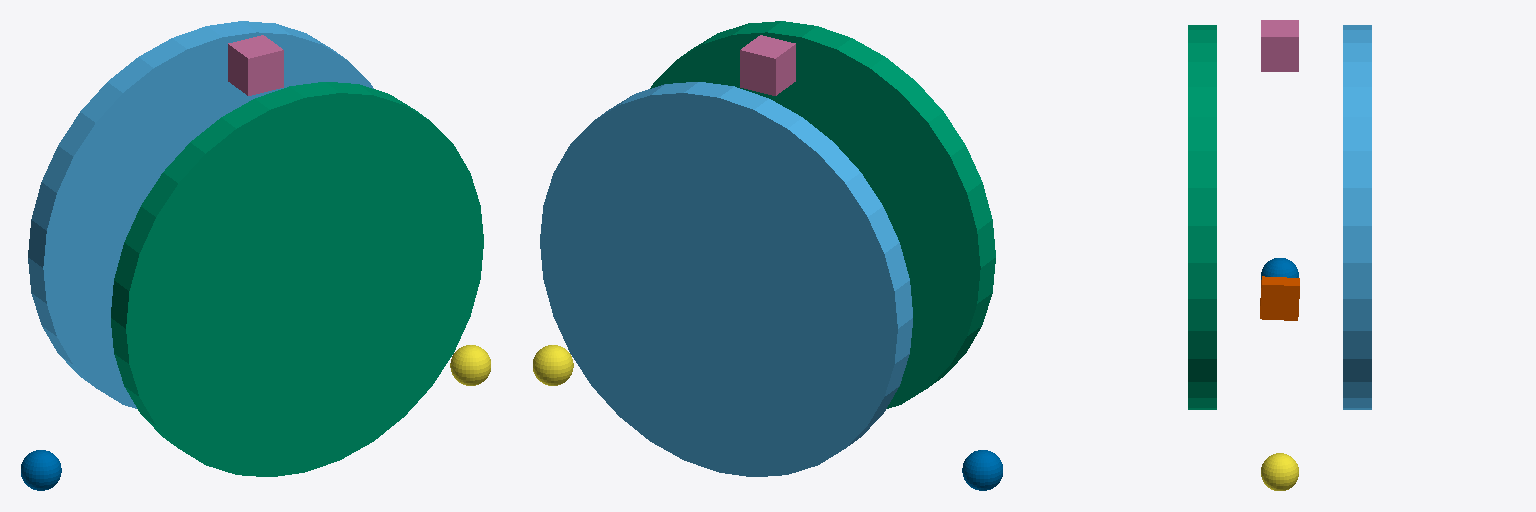
URDF robot description (sprintbot_basic_collisions):
<?xml version="1.0" ?>
<robot name="sprintbot_basic_collisions">
    
  <link name="link_0">
    <inertial>
      <mass value="1.5"/>
      <inertia ixx="0.166667" ixy="0" ixz="0" iyy="0.166667" iyz="0" izz="0.166667"/>
      <origin rpy="0 0 0" xyz="0 0 0"/>
    </inertial>
    <origin rpy="0 0 0 0" xyz="0 0 0"/>
    <kinematic>0</kinematic>
    <enable_wind>0</enable_wind>
    <visual>
      <origin rpy="0 0 -1.5708" xyz="0 0 0"/>
      <geometry>
        <mesh filename="./install/sprintbot-model/share/sprintbot-model/meshes/sprintbot_body_corrected_axis.dae"/>
      </geometry>
    </visual>
    <collision>
      <origin rpy="0 0 -1.5708" xyz="0 0 0"/>
      <geometry>
        <sphere radius="0.0915"/>
      </geometry>
    </collision>
  </link>
  
  <link name="link_1">
    <inertial>
      <mass value="0.35"/>
      <inertia ixx="0.166667" ixy="0" ixz="0" iyy="0.166667" iyz="0" izz="0.166667"/>
      <origin rpy="0 0 0" xyz="0 0 0"/>
    </inertial>
    <origin rpy="0 0 0" xyz="0 0.04 0"/>
    <kinematic>0</kinematic>
    <enable_wind>0</enable_wind>
    <visual>
      <origin rpy="1.5708 0 0" xyz="0 0 0"/>
      <geometry>
        <cylinder length="0.015" radius="0.1"/>
      </geometry>
      <transparency>0</transparency>
      <cast_shadows>1</cast_shadows>
    </visual>
    <collision>
      <origin rpy="1.5708 0 0" xyz="0 0 0"/>
      <geometry>
        <cylinder length="0.015" radius="0.1"/>
      </geometry>
    </collision>    
  </link>
  
  <link name="link_2">
    <inertial>
      <mass value="0.35"/>
      <inertia ixx="0.166667" ixy="0" ixz="0" iyy="0.166667" iyz="0" izz="0.166667"/>
      <origin rpy="0 0 0" xyz="0 0 0"/>
    </inertial>
    <origin rpy="0 0 0" xyz="0 -0.04 0"/>
    <kinematic>0</kinematic>
    <enable_wind>0</enable_wind>
    <visual>
      <origin rpy="1.5708 0 0" xyz="0 0 0"/>
      <geometry>
        <cylinder length="0.015" radius="0.1"/>
      </geometry>
      <transparency>0</transparency>
      <cast_shadows>1</cast_shadows>
    </visual>
    <collision>
      <origin rpy="1.5708 0 0" xyz="0 0 0"/>
      <geometry>
        <cylinder length="0.015" radius="0.1"/>
      </geometry>
    </collision> 
  </link>
  
  <link name="front_caster">
    <inertial>
      <mass value="0.005"/>
      <inertia ixx="1.15e-06" ixy="0" ixz="0" iyy="1.15e-06" iyz="0" izz="1.15e-06"/>
      <origin rpy="0 0 0" xyz="0 0 0"/>
    </inertial>
    <origin rpy="0 0 0" xyz="0.12 0 -0.09"/>
    <kinematic>0</kinematic>
    <enable_wind>0</enable_wind>
    <visual>
      <origin rpy="0 0 0" xyz="0 0 0"/>
      <geometry>
        <sphere radius="0.01"/>
      </geometry>
      <transparency>0</transparency>
      <cast_shadows>1</cast_shadows>
    </visual>
    <collision>
      <origin rpy="0 0 0" xyz="0 0 0"/>
      <geometry>
        <sphere radius="0.01"/>
      </geometry>
    </collision> 
  </link>
  
  <link name="back_caster">
    <inertial>
      <mass value="0.005"/>
      <inertia ixx="1.15e-06" ixy="0" ixz="0" iyy="1.15e-06" iyz="0" izz="1.15e-06"/>
      <origin rpy="0 0 0" xyz="0 0 0"/>
    </inertial>
    <origin rpy="0 0 0" xyz="-0.12 0 -0.09"/>
    <kinematic>0</kinematic>
    <enable_wind>0</enable_wind>
    <visual>
      <origin rpy="0 0 0" xyz="0 0 0"/>
      <geometry>
        <sphere radius="0.01"/>
      </geometry>
      <transparency>0</transparency>
      <cast_shadows>1</cast_shadows>
    </visual>
    <collision>
      <origin rpy="0 0 0" xyz="0 0 0"/>
      <geometry>
        <sphere radius="0.01"/>
      </geometry>
    </collision> 
  </link>
  
  <joint name="left_motor" type="revolute">
    <parent link="link_0"/>
    <child link="link_1"/>
    <origin rpy="0 0 0" xyz="0 0.04 0"/>
    <axis xyz="0 1 0"/>
    <limit effort="2.62" lower="-1.79769e+308" upper="1.79769e+308" velocity="0.5"/>
    <dynamics damping="0" friction="0" spring_reference="0" spring_stiffness="0"/>
  </joint>
  
  <joint name="right_motor" type="revolute">
    <parent link="link_0"/>
    <child link="link_2"/>
    <origin rpy="0 0 0" xyz="0 -0.04 0"/>
    <axis xyz="0 1 0"/>
    <limit effort="2.62" lower="-1.79769e+308" upper="1.79769e+308" velocity="0.5"/>
    <dynamics damping="0" friction="0" spring_reference="0" spring_stiffness="0"/>
  </joint>
  
  <joint name="back_caster_joint" type="revolute">
    <parent link="link_0"/>
    <child link="back_caster"/>
    <origin rpy="0 0 0" xyz="-0.12 0 -0.09"/>
    <axis xyz="0 1 0"/>
    <limit effort="2.62" lower="-1.79769e+308" upper="1.79769e+308" velocity="0.5"/>
    <dynamics damping="0" friction="0" spring_reference="0" spring_stiffness="0"/>
  </joint>
  
  <joint name="front_caster_joint" type="revolute">
    <parent link="link_0"/>
    <child link="front_caster"/>
    <origin rpy="0 0 0" xyz="0.12 0 -0.09"/>
    <axis xyz="0 1 0"/>
    <limit effort="2.62" lower="-1.79769e+308" upper="1.79769e+308" velocity="0.5"/>
    <dynamics damping="0" friction="0" spring_reference="0" spring_stiffness="0"/>
  </joint>
  
  <gazebo reference="link_0">
      <sensor name="range_0" type="ray">
        <pose>0.065 0.065 0 0 0 0.79</pose>
        <ray>
          <range>
            <min>0.04</min>
            <max>3.0</max>
          </range>
        </ray>
        <always_on>true</always_on>
        <visualize>true</visualize>
        <update_rate>100.0</update_rate>
        <plugin name="range_0_sensor" filename="libgazebo_ros_ray_sensor.so">
          <ros>
            <remapping>~/out:=range_0</remapping>
          </ros>
          <radiation_type>infrared</radiation_type>
          <output_type>sensor_msgs/Range</output_type>
        </plugin>
      </sensor>

      <sensor name="range_1" type="ray">
        <pose>0.092 0 0 0 0 0</pose>
        <ray>
          <range>
            <min>0.04</min>
            <max>3.0</max>
          </range>
        </ray>
        <always_on>true</always_on>
        <visualize>true</visualize>
        <update_rate>100.0</update_rate>
        <plugin name="range_1_sensor" filename="libgazebo_ros_ray_sensor.so">
          <ros>
            <remapping>~/out:=range_1</remapping>
          </ros>
          <radiation_type>infrared</radiation_type>
          <output_type>sensor_msgs/Range</output_type>
        </plugin>
      </sensor>

      <sensor name="range_2" type="ray">
        <pose>0.065 -0.065 0 0 0 -0.79</pose>
        <ray>
          <range>
            <min>0.04</min>
            <max>3.0</max>
          </range>
        </ray>
        <always_on>true</always_on>
        <visualize>true</visualize>
        <update_rate>100.0</update_rate>
        <plugin name="range_2_sensor" filename="libgazebo_ros_ray_sensor.so">
          <ros>
            <remapping>~/out:=range_2</remapping>
          </ros>
          <radiation_type>infrared</radiation_type>
          <output_type>sensor_msgs/Range</output_type>
        </plugin>
      </sensor>
 <!-- ======================================add two more at front top and bottom=========================== -->     
      <sensor name="range_3" type="ray">
        <pose>0.065 0 0.065 0 -0.395 0</pose>
        <ray>
          <range>
            <min>0.04</min>
            <max>3.0</max>
          </range>
        </ray>
        <always_on>true</always_on>
        <visualize>true</visualize>
        <update_rate>100.0</update_rate>
        <plugin name="range_3_sensor" filename="libgazebo_ros_ray_sensor.so">
          <ros>
            <remapping>~/out:=range_3</remapping>
          </ros>
          <radiation_type>infrared</radiation_type>
          <output_type>sensor_msgs/Range</output_type>
        </plugin>
      </sensor>

      <sensor name="range_4" type="ray">
        <pose>0.065 0 -0.065 0 0.395 0</pose>
        <ray>
          <range>
            <min>0.04</min>
            <max>3.0</max>
          </range>
        </ray>
        <always_on>true</always_on>
        <visualize>true</visualize>
        <update_rate>100.0</update_rate>
        <plugin name="range_4_sensor" filename="libgazebo_ros_ray_sensor.so">
          <ros>
            <remapping>~/out:=range_4</remapping>
          </ros>
          <radiation_type>infrared</radiation_type>
          <output_type>sensor_msgs/Range</output_type>
        </plugin>
      </sensor>
      
  </gazebo>
  
  <!-- =======================================IMU============================ -->
  <gazebo reference="link_0">
    <gravity>true</gravity>
    <sensor name="imu_sensor" type="imu">
      <always_on>true</always_on>
      <update_rate>100</update_rate>
      <visualize>true</visualize>
      <topic>imu</topic>
      <plugin filename="libgazebo_ros_imu_sensor.so" name="imu">
        <topicName>imu1</topicName>
        <bodyName>link_0</bodyName>
        <updateRateHZ>50.0</updateRateHZ>
        <gaussianNoise>0.0</gaussianNoise>
        <xyzOffset>0 0 0</xyzOffset>
        <rpyOffset>0 0 0</rpyOffset>
        <frameName>link_0</frameName>
        <initialOrientationAsReference>false</initialOrientationAsReference>
      </plugin>
      <pose>0 0 0 0 0 0</pose>
    </sensor>
  </gazebo>
  <!-- ======================================camera============================ -->
  <link name="camera">
    <collision>
      <origin xyz="0 0 0" rpy="0 0 0"/>
      <geometry>
        <box size="0.01 0.01 0.01"/>
      </geometry>
    </collision>

    <visual>
      <origin xyz="0 0 0" rpy="0 0 0"/>
      <geometry>
        <box size="0.01 0.02 0.02"/>
      </geometry>
      <material name="green"/>
    </visual>

    <inertial>
      <mass value="0.01}" />
      <origin xyz="0 0 0" rpy="0 0 0"/>
      <box_inertia m="0.01" x="0.01" y="0.01" z="0.01" />
      <inertia ixx="1e-6" ixy="0" ixz="0" iyy="1e-6" iyz="0" izz="1e-6" />
    </inertial>
  </link>

  <joint name="camera_joint" type="fixed">
    <axis xyz="0 1 0" />
    <origin xyz="0.1 0 0" rpy="-0.05 0 0"/>
    <parent link="link_0"/>
    <child link="camera"/>
  </joint>
  
  <gazebo reference="camera">
    <material>Gazebo/Green</material>
    <sensor type="camera" name="camera0">
      <update_rate>30.0</update_rate>
      <camera name="head">
        <horizontal_fov>1.3962634</horizontal_fov>
        <image>
          <width>800</width>
          <height>800</height>
          <format>R8G8B8</format>
        </image>
        <clip>
          <near>0.02</near>
          <far>300</far>
        </clip>
      </camera>
      <plugin name="camera_controller" filename="libgazebo_ros_camera.so">
        <alwaysOn>true</alwaysOn>
        <updateRate>0.0</updateRate>
        <cameraName>sprintbot/camera0</cameraName>
        <imageTopicName>image_raw</imageTopicName>
        <cameraInfoTopicName>camera_info</cameraInfoTopicName>
        <frameName>camera</frameName>
        <hackBaseline>0.07</hackBaseline>
        <distortionK1>0.0</distortionK1>
        <distortionK2>0.0</distortionK2>
        <distortionK3>0.0</distortionK3>
        <distortionT1>0.0</distortionT1>
        <distortionT2>0.0</distortionT2>
      </plugin>
    </sensor>
  </gazebo>
 <!-- ====================================== Force sensor ============================ -->
  <link name="loadcell">
   <inertial>
      <mass value="0.01}" />
      <origin xyz="0 0 0" rpy="0 0 0"/>
      <box_inertia m="0.01" x="0.02" y="0.02" z="0.02" />
      <inertia ixx="1e-6" ixy="0" ixz="0" iyy="1e-6" iyz="0" izz="1e-6" />
    </inertial>
    <collision>
      <origin xyz="0 0 0" rpy="0 0 0"/>
      <geometry>
        <box size="0.02 0.02 0.02"/>
      </geometry>
    </collision>
    <visual>
      <origin xyz="0 0 0" rpy="0 0 0"/>
      <geometry>
        <box size="0.02 0.02 0.02"/>
      </geometry>
      <material name="red"/>
    </visual>
  </link>
  <gazebo reference="loadcell">
    <material>Gazebo/Red</material>
  </gazebo>
  <joint
    name="loadcell_joint" type="fixed">
    <origin xyz="0 0 0.098" rpy="0 0 0" />
    <parent link="link_0" />
    <child link="loadcell" />
    <axis xyz="0 0 1" />
    <limit lower="0" upper="0" effort="0" velocity="0" />
    <dynamics damping="0.1" friction="0.1" />
  </joint>
  <!--Set the feedback to the joint to be true-->
  <gazebo 
     reference="loadcell_joint">
     <provideFeedback>true</provideFeedback>
  </gazebo>
  <!-- Add ft_sensor plugin -->
  
  <gazebo>
    <plugin name="ft_sensor" filename="libgazebo_ros_ft_sensor.so">
      <updateRate>100.0</updateRate>
      <topicName>ft_sensor_topic</topicName>
      <jointName>loadcell_joint</jointName>
      <!--noise>
          <type>gaussian</type>
          <mean>0.0</mean>
          <stddev>0.003</stddev>
        </noise-->
    </plugin>
  </gazebo>
 <!--===============================================================================--> 
  
  <gazebo>
    <plugin name='diff_drive' filename='libgazebo_ros_diff_drive.so'>
      <left_joint>left_motor</left_joint>
      <right_joint>right_motor</right_joint>
      <wheel_separation>0.08</wheel_separation>
      <wheel_diameter>0.2</wheel_diameter>
      <max_wheel_torque>2.61</max_wheel_torque>
      <max_wheel_acceleration>0.5</max_wheel_acceleration>
      <publish_odom>1</publish_odom>
    </plugin>
    <!--plugin name="left_motor_plugin" filename="libgazebo_ros_simple_motor.so">
        <ros>
            <remapping>cmd_motor:=cmd_left_motor</remapping>
        </ros>
        <motor_shaft_name>left_motor</motor_shaft_name>
        <max_change_rpm>5.0</max_change_rpm>
        <max_rpm>500.0</max_rpm>
        <max_change_radians>0.314</max_change_radians>
        <update_rate>10.0</update_rate>
      </plugin-->
      
    <!--plugin name="right_motor_plugin" filename="libgazebo_ros_simple_motor.so">
        <ros>
            <remapping>cmd_motor:=cmd_right_motor</remapping>
        </ros>
        <motor_shaft_name>right_motor</motor_shaft_name>
        <max_change_rpm>5.0</max_change_rpm>
        <max_rpm>500.0</max_rpm>
        <max_change_radians>0.314</max_change_radians>
        <update_rate>10.0</update_rate>
    </plugin-->
  </gazebo>
  
</robot>

--- What the picture shows (computed from the rendered views, not written in the file) ---
Views: 3 orthographic renders of the robot side by side, from view 1: azimuth 30°, elevation 25°; view 2: azimuth 150°, elevation 25°; view 3: azimuth 270°, elevation 25°.
Model sprintbot_basic_collisions with 7 links and 6 joints (4 revolute, 2 fixed), rooted at link_0, posed every joint at zero.
Visible links, largest first — view 1: link_2, link_1, loadcell, back_caster, front_caster; view 2: link_1, link_2, loadcell, back_caster, front_caster; view 3: link_1, link_2, loadcell, camera, front_caster, back_caster.
Boxes of the visible links, left/top/right/bottom form: link_2: left=111, top=82, right=483, bottom=476; link_1: left=28, top=21, right=373, bottom=408; loadcell: left=228, top=35, right=283, bottom=95; back_caster: left=21, top=450, right=61, bottom=490; front_caster: left=450, top=345, right=490, bottom=385; link_1: left=540, top=82, right=912, bottom=476; link_2: left=650, top=21, right=995, bottom=408; loadcell: left=740, top=35, right=795, bottom=95; back_caster: left=962, top=450, right=1002, bottom=490; front_caster: left=533, top=345, right=573, bottom=385; link_1: left=1343, top=25, right=1371, bottom=409; link_2: left=1188, top=25, right=1216, bottom=409; loadcell: left=1261, top=20, right=1298, bottom=71; camera: left=1260, top=276, right=1299, bottom=320; front_caster: left=1261, top=453, right=1298, bottom=490; back_caster: left=1261, top=258, right=1298, bottom=279.
Bounding box of the posed robot: 0.26 × 0.095 × 0.208 m (x, y, z).
0 mesh visuals loaded from 1 distinct referenced files (none loaded); not drawn: 1 (reference not matched to a file when rendering).
